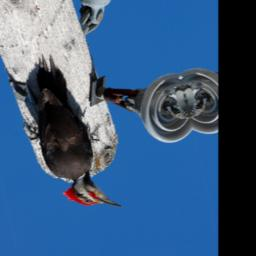Woodpecker: (5, 45, 128, 227)
